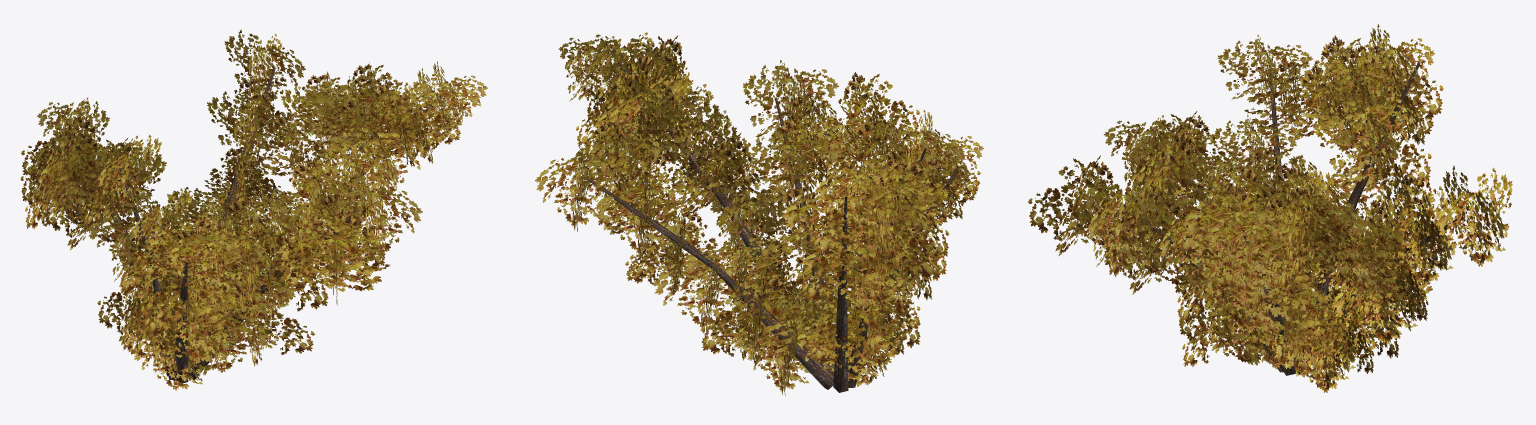
Rendered from bush_3d_05_yellow_lod1.glb.
3 renders of one model, left to right at view 1: azimuth 30°, elevation 25°; view 2: azimuth 150°, elevation 25°; view 3: azimuth 270°, elevation 25°, orthographic. The views are drawn at different scales.
Parts seen in each view (by area): view 1: foliage_cards, wood_geometry; view 2: foliage_cards, wood_geometry; view 3: foliage_cards, wood_geometry.
Part boxes in pixels (box(x1,y1,x2,y2)): foliage_cards: box(20, 30, 487, 390); wood_geometry: box(64, 67, 443, 383); foliage_cards: box(535, 32, 983, 395); wood_geometry: box(583, 51, 958, 392); foliage_cards: box(1028, 24, 1512, 392); wood_geometry: box(1139, 61, 1462, 375).
Bounding box in the file's own units: 2.79 × 1.71 × 2.5.
2 materials, 2 textured.
